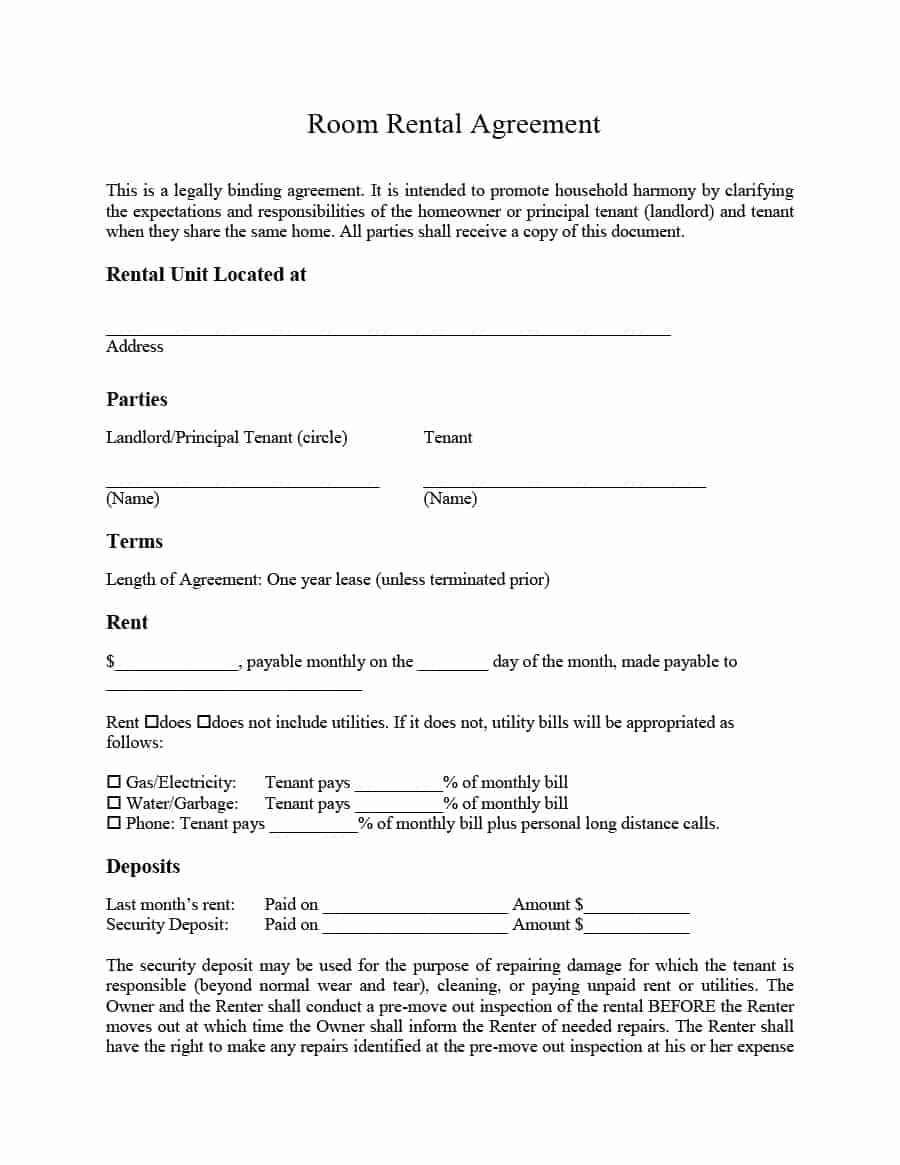checkbox: (105, 792, 124, 810), (104, 772, 122, 789), (106, 815, 123, 831)
textline: (95, 294, 678, 345), (107, 451, 381, 494), (420, 456, 711, 495), (324, 874, 508, 917), (104, 673, 368, 695), (104, 639, 244, 676), (313, 914, 511, 938), (351, 760, 445, 795), (585, 888, 690, 918), (351, 792, 452, 816), (263, 811, 359, 835), (412, 646, 485, 673), (581, 921, 696, 938)
